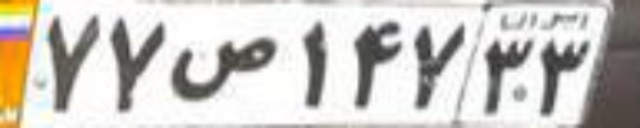1: (301, 20, 325, 106)
3: (541, 38, 590, 115), (483, 38, 533, 112)
4: (350, 20, 401, 107)
7: (43, 13, 100, 111), (108, 16, 163, 111), (413, 21, 466, 109)
saat: (170, 35, 278, 100)
